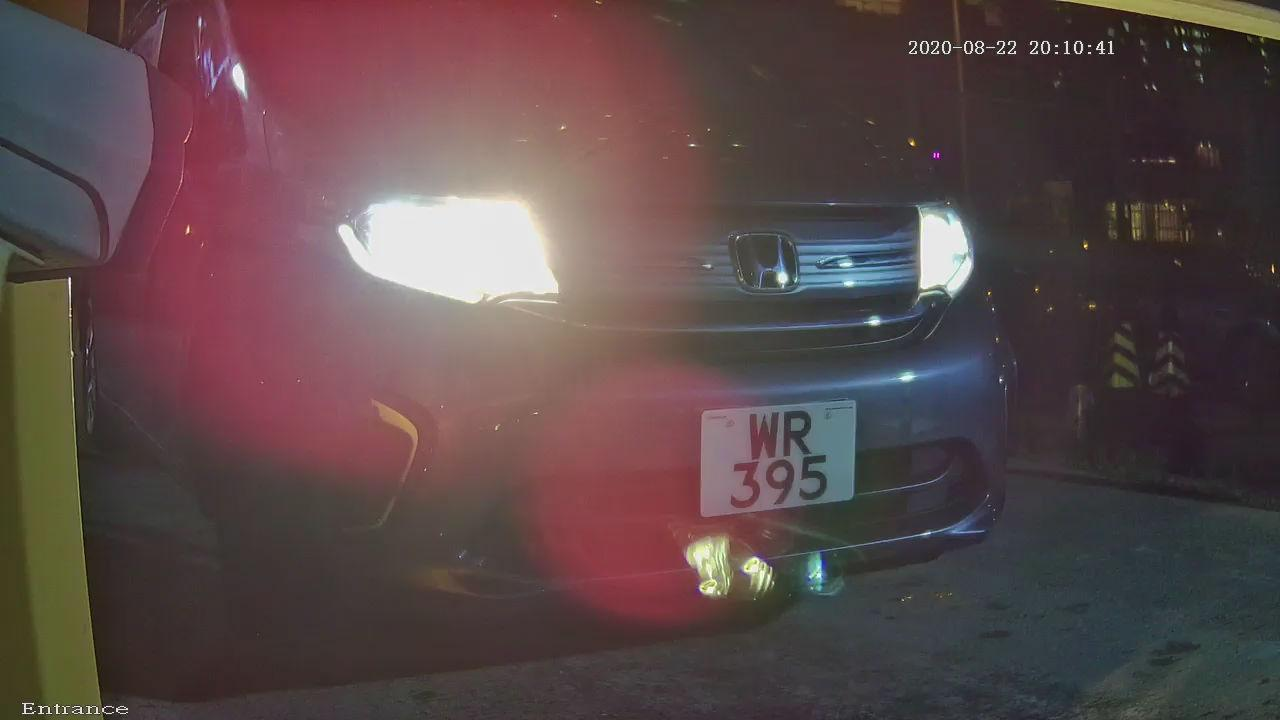Car: (58, 13, 1126, 711)
License Plate: (669, 377, 875, 553)
